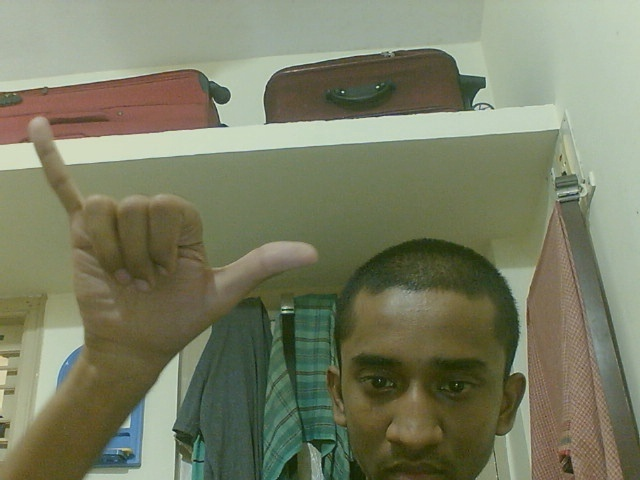hand: (27, 112, 322, 372)
